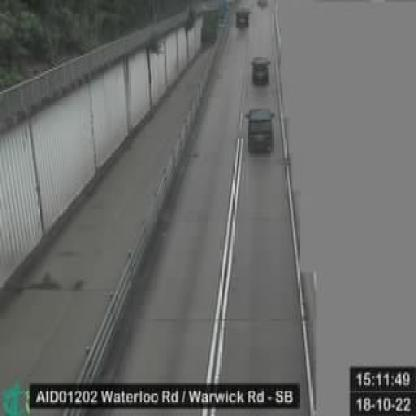Car: (244, 107, 274, 155), (250, 57, 271, 87), (235, 7, 252, 29)
